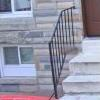stairs: (56, 36, 100, 100)
